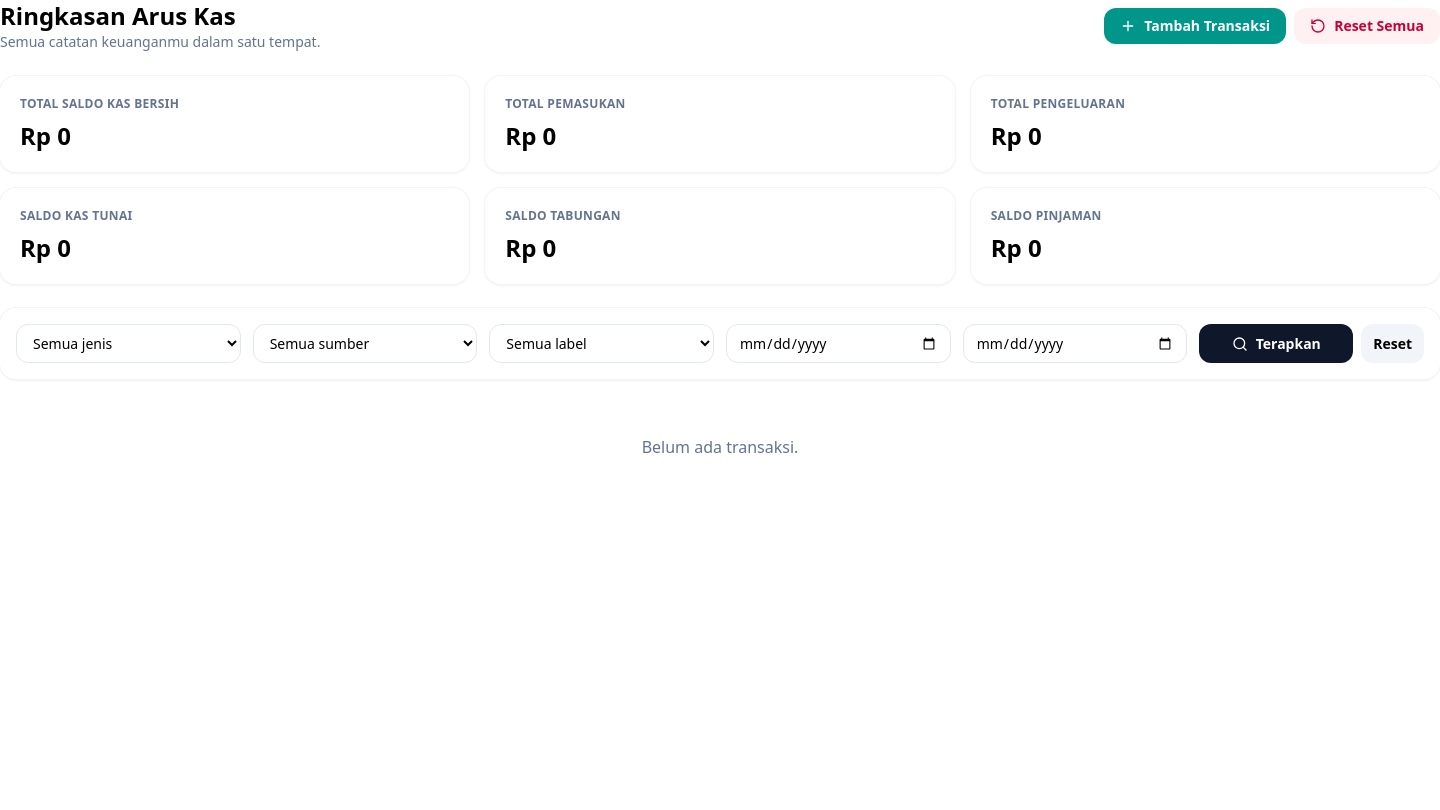
HomePage › should open and close the add modal
Step 1. Click the button with test id "btn-add" → (1195, 26), box x1=1104 y1=8 x2=1286 y2=44
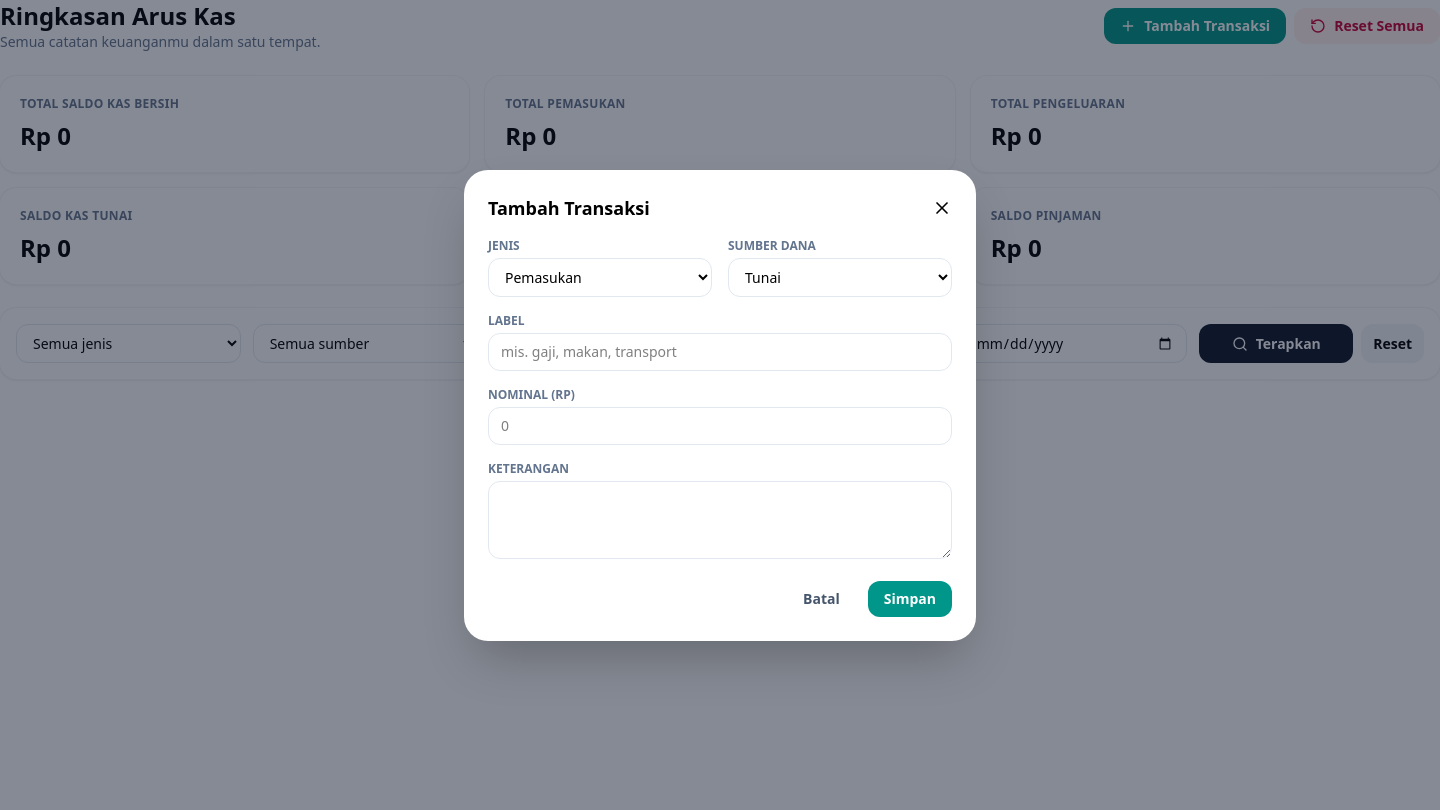
expect the element that starts with "Tambah Transaksi" is shown: met
